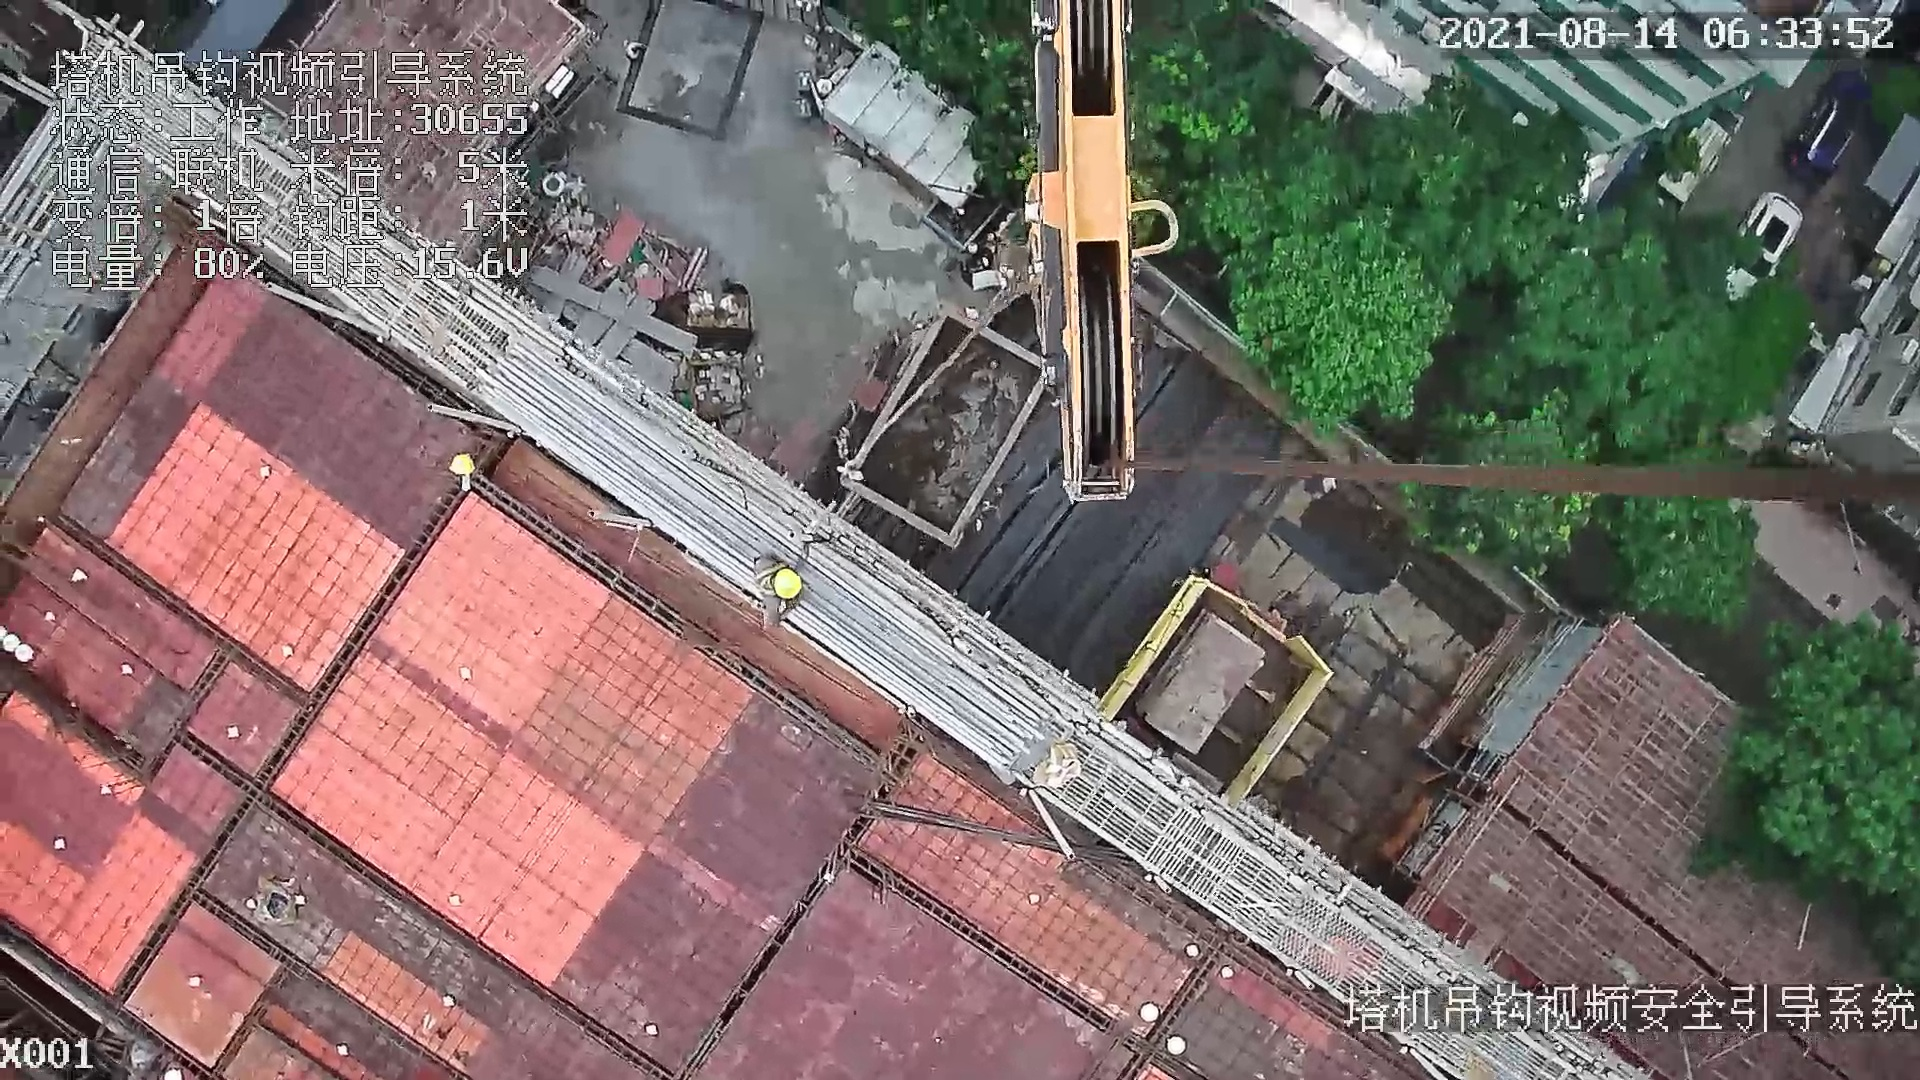helmet: (770, 568, 806, 599), (449, 454, 477, 473)
hook: (1020, 3, 1179, 503)
hopper: (844, 292, 1059, 564)
person: (750, 537, 806, 631)
